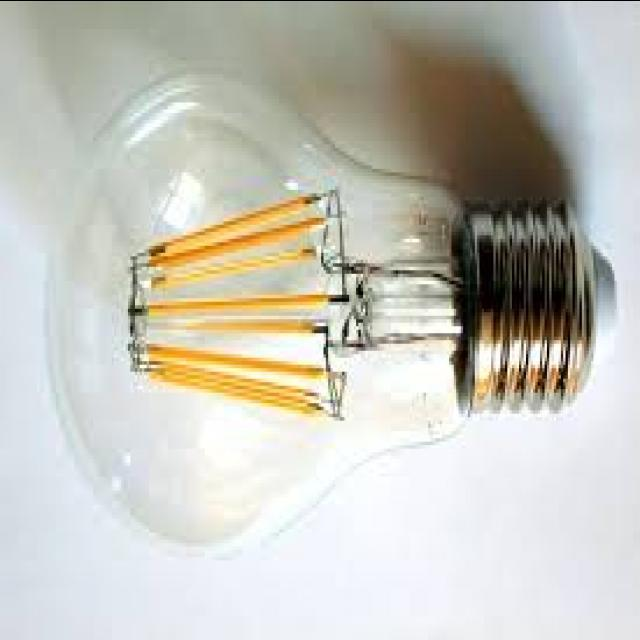light_bulb: (33, 49, 627, 578)
